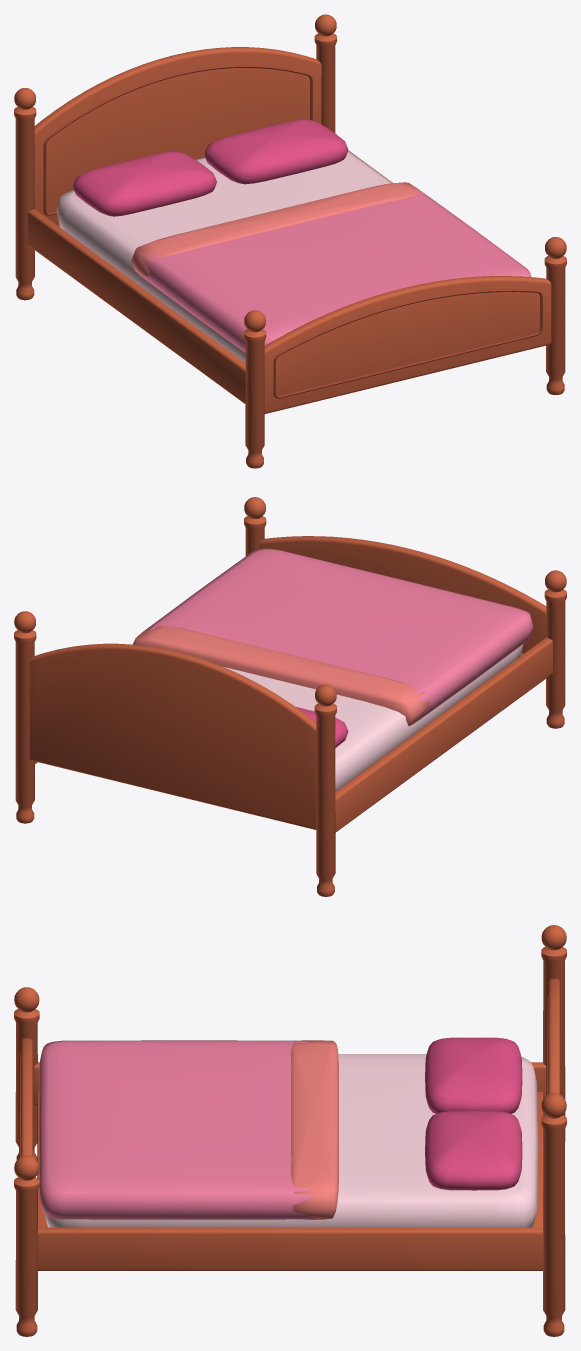
File: cama_casal_classica_terracota.glb
3 views of the same model, one above another, from view 1: azimuth 30°, elevation 25°; view 2: azimuth 150°, elevation 25°; view 3: azimuth 270°, elevation 25° (orthographic). The views are drawn at different scales.
Parts seen in each view (by area): view 1: cama_casal_classica_terracota; view 2: cama_casal_classica_terracota; view 3: cama_casal_classica_terracota.
Boxes of the visible parts, x1,y1,x2,y2 form: cama_casal_classica_terracota: (14,14,566,468); cama_casal_classica_terracota: (14,497,566,896); cama_casal_classica_terracota: (14,925,566,1336).
Bounding box in the file's own units: 1.61 × 0.9991 × 2.1.
Materials: 1 (1 with a texture image).
